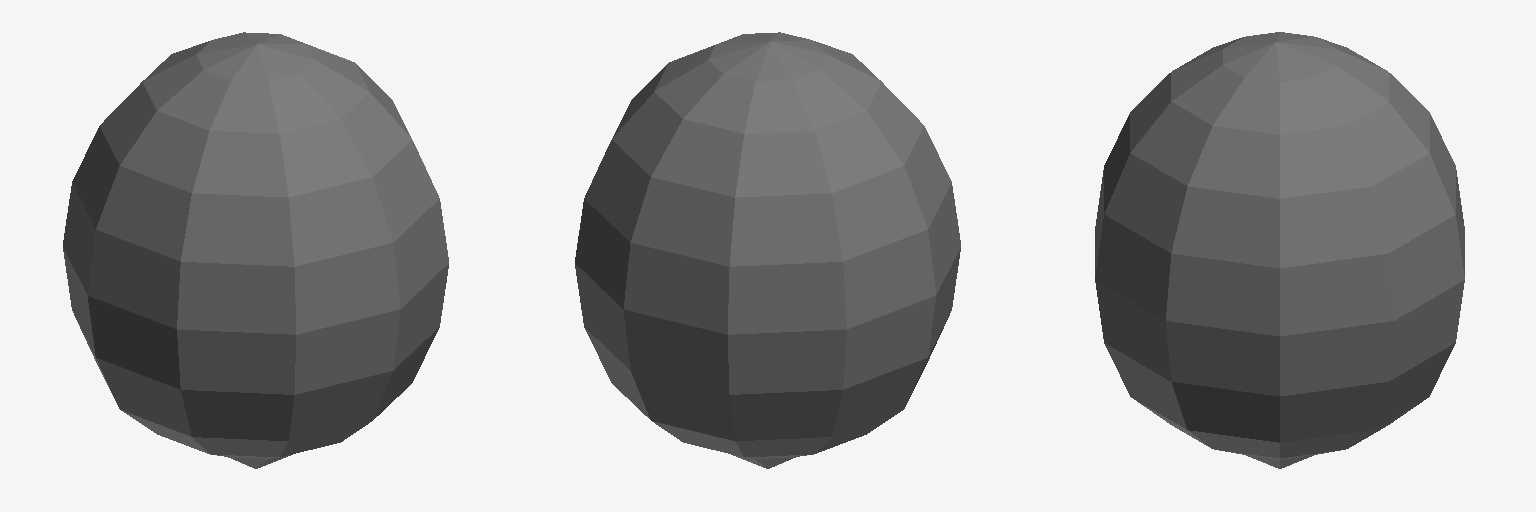
File: Buah.obj
3 views of the same model, side by side, from view 1: azimuth 30°, elevation 25°; view 2: azimuth 150°, elevation 25°; view 3: azimuth 270°, elevation 25° (orthographic).
Visible parts, largest first — view 1: pSphere27; view 2: pSphere27; view 3: pSphere27.
Part boxes in pixels (bbox=[...]): pSphere27: bbox=[63, 32, 448, 468]; pSphere27: bbox=[575, 32, 960, 468]; pSphere27: bbox=[1095, 32, 1464, 468].
Size of the model in its own units: 0.4548 by 0.5507 by 0.4325.